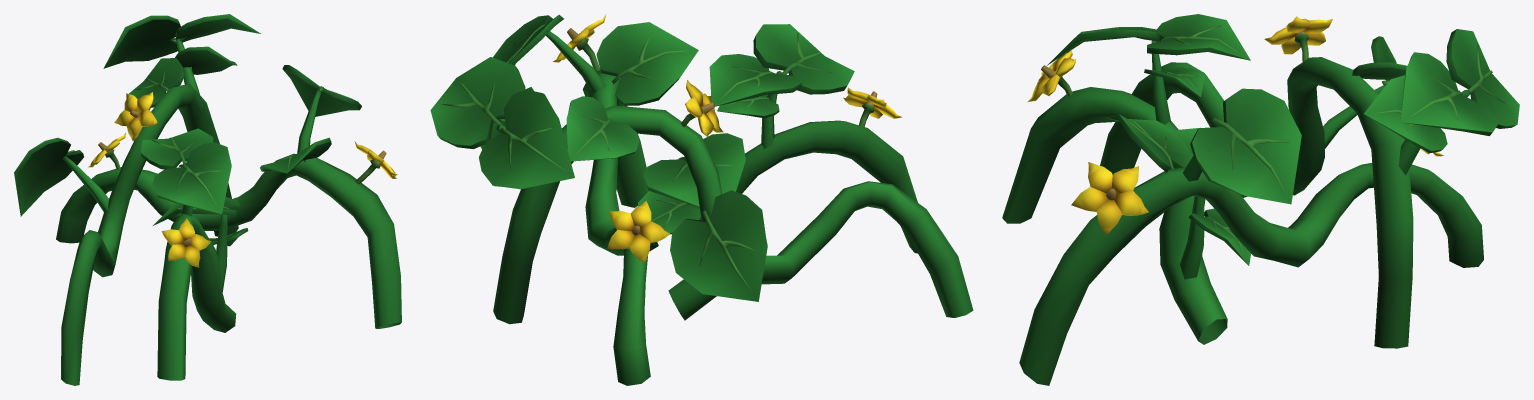
The model's file is SM_Plant_Pumpkin_Lv3.fbx.
The picture shows the model from 3 angles, left to right: view 1: azimuth 30°, elevation 25°; view 2: azimuth 150°, elevation 25°; view 3: azimuth 270°, elevation 25°; orthographic projection. The views are drawn at different scales.
Visible parts, largest first — view 1: SM_Plant_Pumpkin_Lv3; view 2: SM_Plant_Pumpkin_Lv3; view 3: SM_Plant_Pumpkin_Lv3.
Boxes of the visible parts, left/top/right/bottom form: SM_Plant_Pumpkin_Lv3: left=14, top=14, right=401, bottom=385; SM_Plant_Pumpkin_Lv3: left=430, top=14, right=973, bottom=385; SM_Plant_Pumpkin_Lv3: left=1002, top=14, right=1519, bottom=385.
Bounding box in the file's own units: 66.62 × 46.02 × 65.42.
